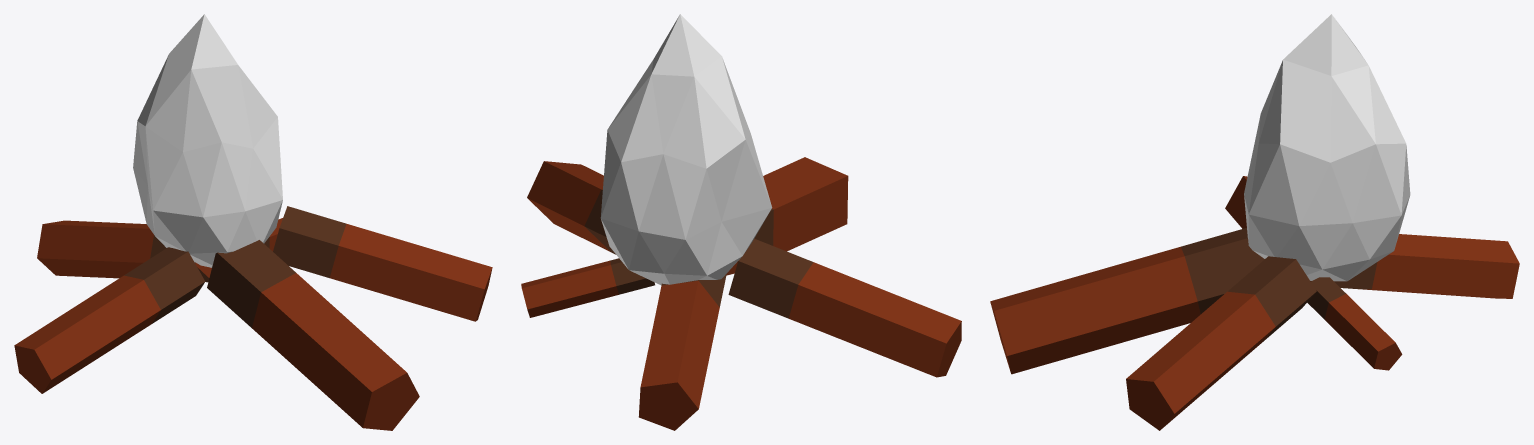
Rendered from HandFire.fbx.
3 renders of one model, left to right at view 1: azimuth 30°, elevation 25°; view 2: azimuth 150°, elevation 25°; view 3: azimuth 270°, elevation 25°, orthographic. The views are drawn at different scales.
Parts seen in each view (by area): view 1: FireLogs, Fire; view 2: FireLogs, Fire; view 3: FireLogs, Fire.
Boxes of the visible parts, <box> form: FireLogs: <box>14,206,492,430</box>; Fire: <box>133,14,282,267</box>; FireLogs: <box>521,157,961,430</box>; Fire: <box>600,14,772,285</box>; FireLogs: <box>990,176,1519,430</box>; Fire: <box>1244,14,1410,281</box>.
Bounding box in the file's own units: 242 × 172 × 243.
